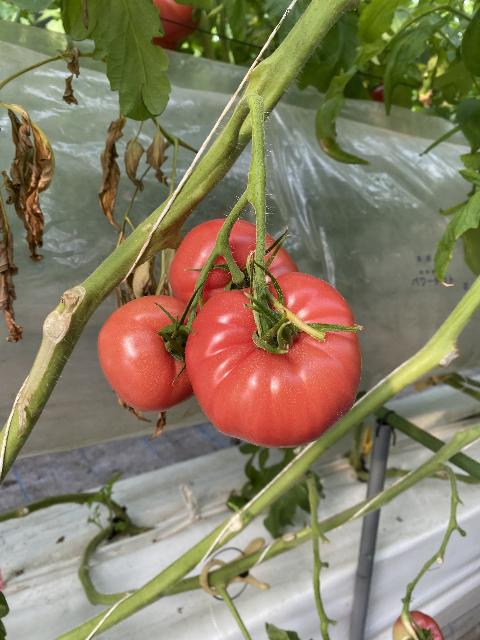b_fully_ripened: (184, 272, 362, 449), (170, 218, 299, 317), (97, 295, 195, 412)
